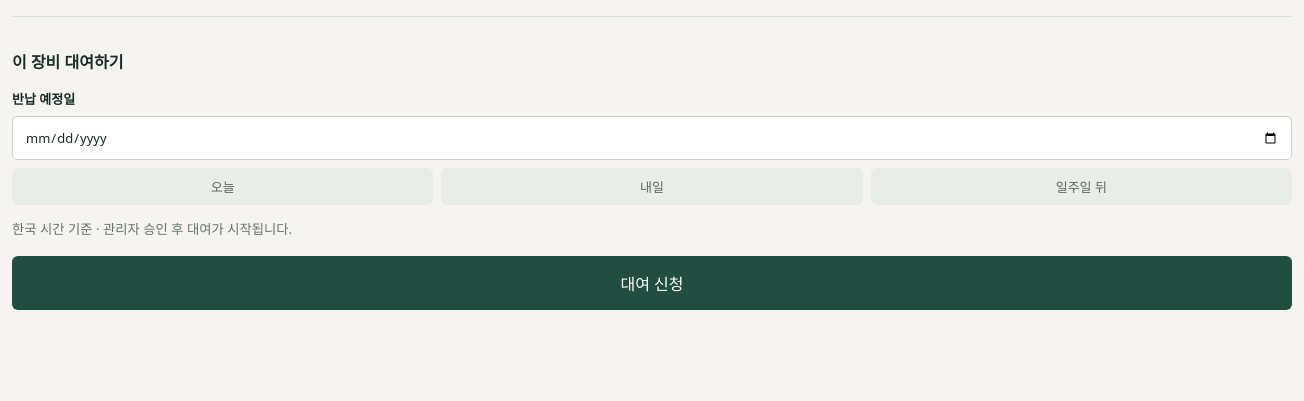
employee submits an unchanged return date and sees approval pending
This screenshot has width=1304, height=401.
In the date field labelled "반납 예정일": [652, 138] box top-left (12, 116), bottom-right (1292, 160), type "2099-01-02"
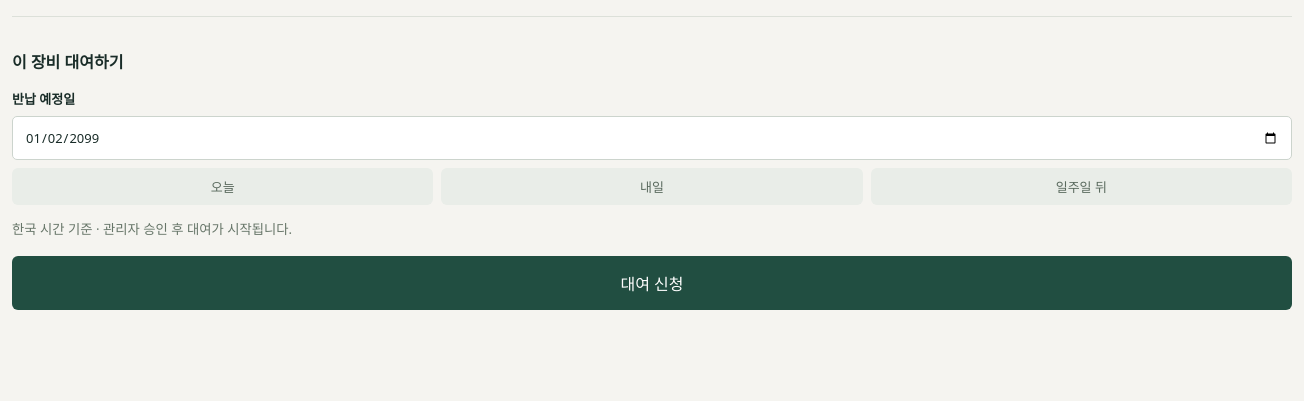
Click the button "대여 신청": [652, 283] box top-left (12, 256), bottom-right (1292, 310)
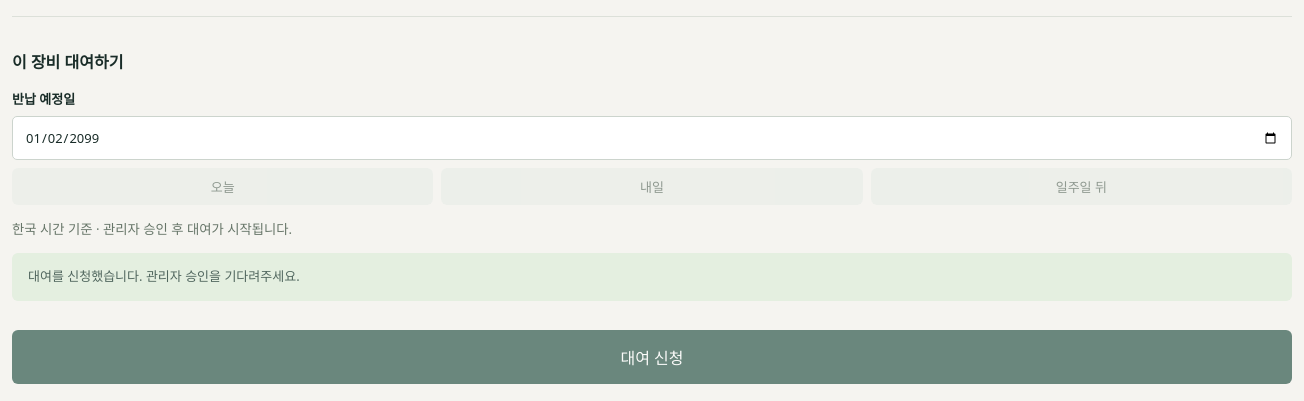
expect the text "대여를 신청했습니다. 관리자 승인을 기다려주세요." is shown: met, box top-left (12, 253), bottom-right (1292, 301)
